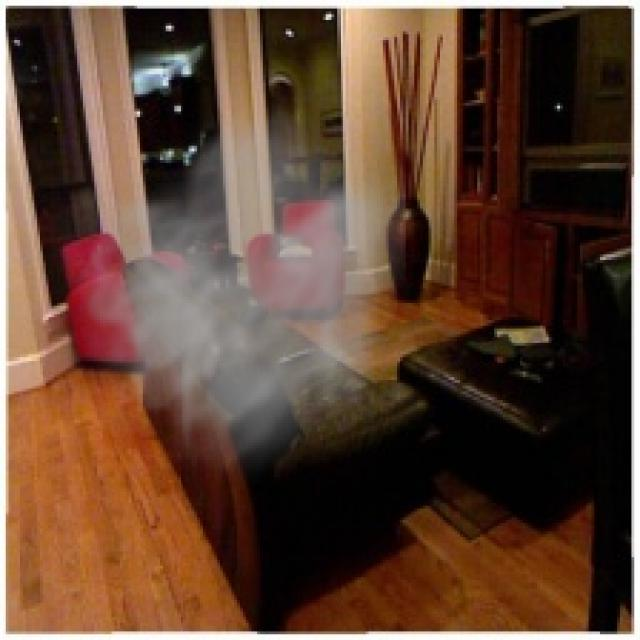smoke: (43, 94, 406, 489)
